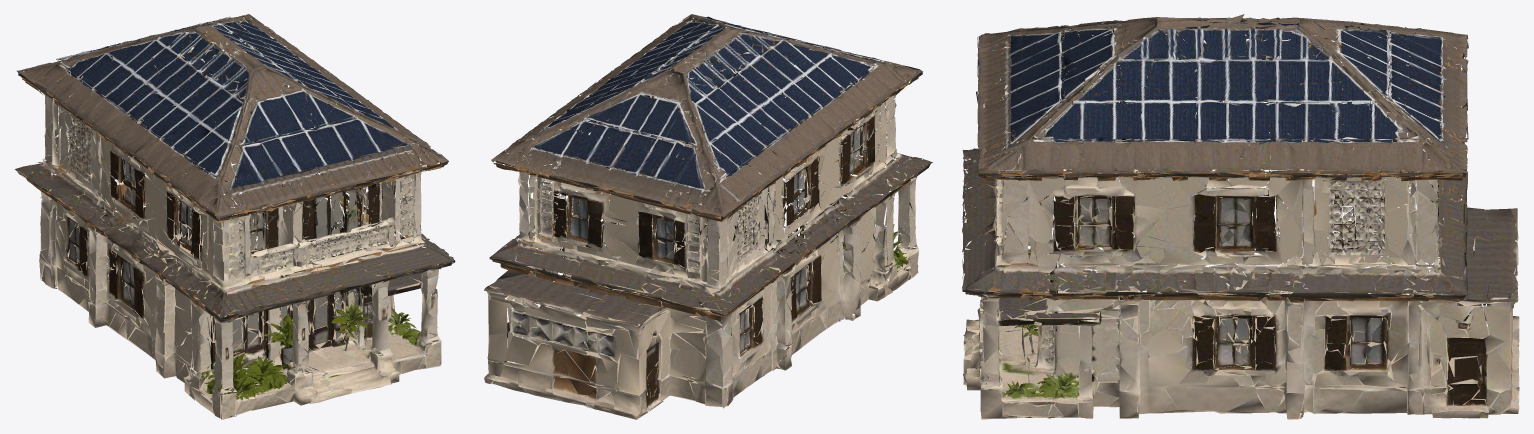
File: bank.glb
The picture shows the model from 3 angles, left to right: view 1: azimuth 30°, elevation 25°; view 2: azimuth 150°, elevation 25°; view 3: azimuth 270°, elevation 25°; orthographic projection. The views are drawn at different scales.
Visible parts, largest first — view 1: Mesh_0; view 2: Mesh_0; view 3: Mesh_0.
Part boxes in pixels (<box>): Mesh_0: <box>14,14,455,419</box>; Mesh_0: <box>484,14,932,419</box>; Mesh_0: <box>962,14,1519,419</box>.
Size of the model in its own units: 1.16 by 1.28 by 1.91.
Materials: 1 (1 with a texture image).
